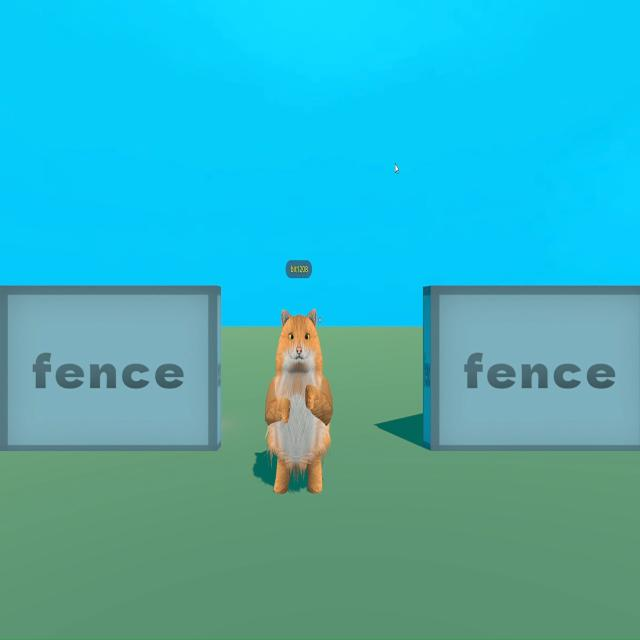human: (261, 294, 337, 508)
